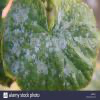Squash Powdery mildew leaf: (1, 0, 99, 90)
